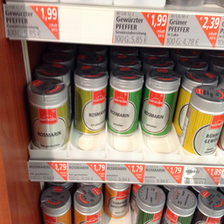spices: (26, 77, 69, 149), (181, 86, 224, 156), (144, 68, 180, 137), (73, 65, 108, 135), (111, 66, 144, 135), (133, 185, 166, 224), (39, 186, 71, 224), (166, 186, 197, 224), (73, 186, 103, 224)
